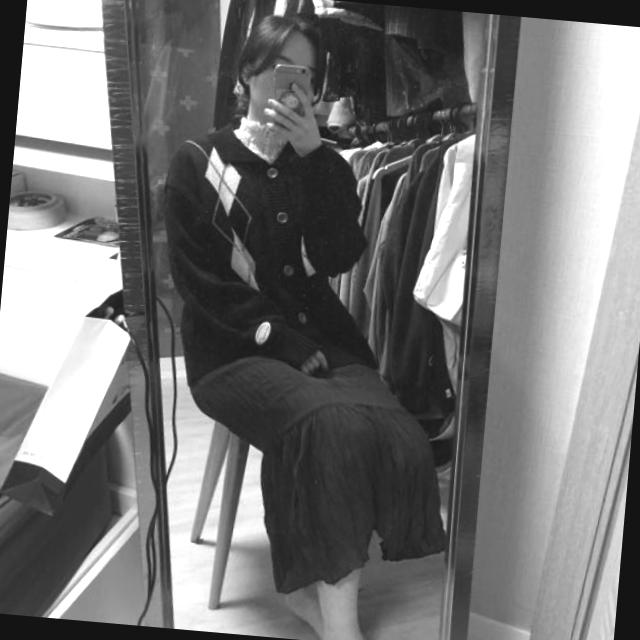cardigan: (148, 116, 400, 405)
skirt: (168, 343, 458, 607)
